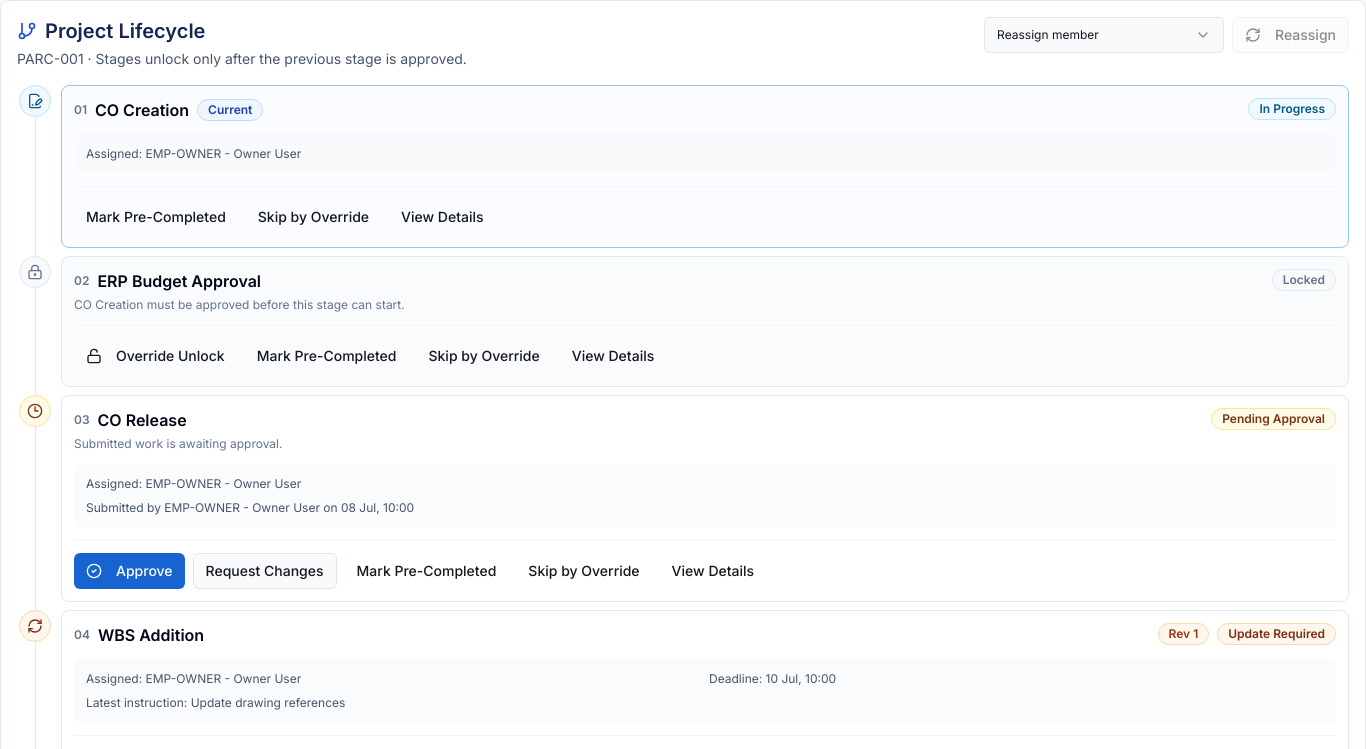
Scenario: ControlWorkflowSection › renders reviewer approval, revision, override, and pre-completed controls
Check: the heading "Project Lifecycle" is shown, box [45,17,206,45]
Check: the text "Update Required" is shown, box [1217,623,1336,645]
Click the button "Approve" at [129, 571], box [74,553,185,589]
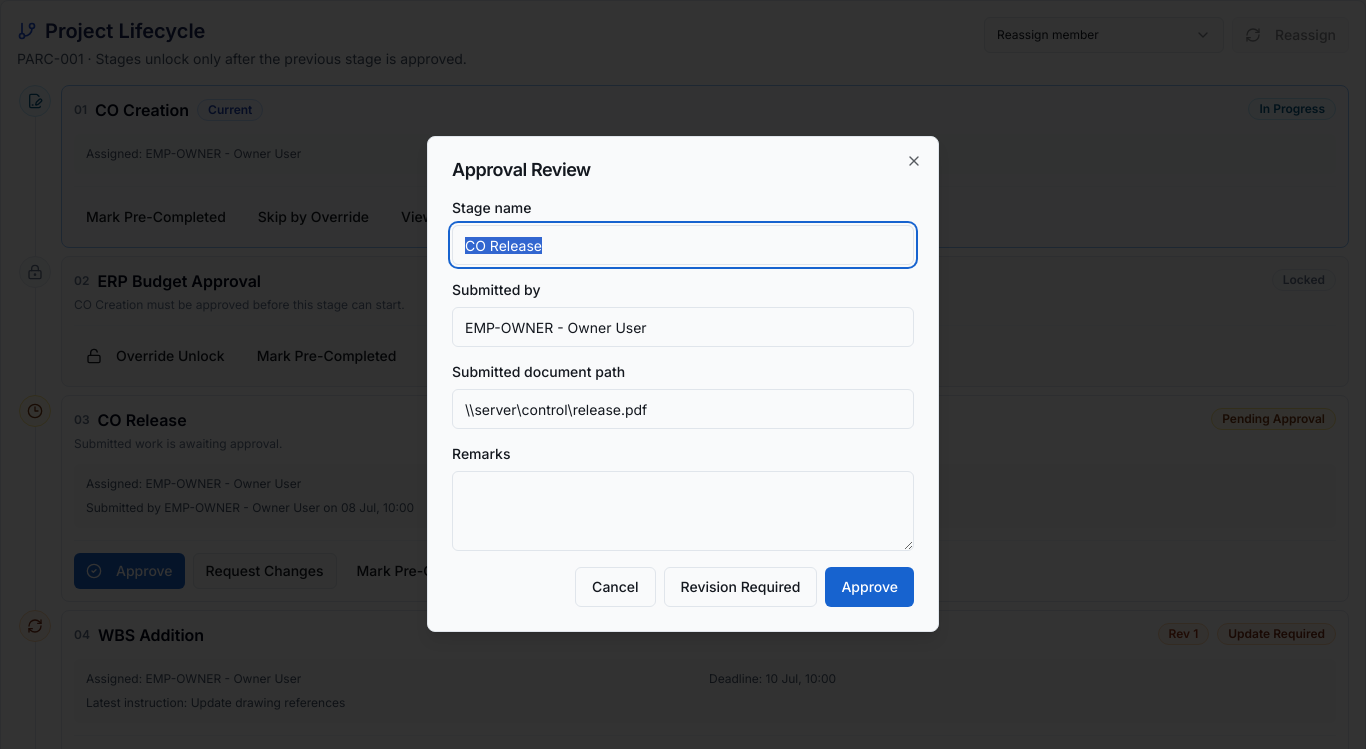
Check: the heading "Approval Review" is shown, box [452,159,591,180]
Check: the button "Revision Required" is shown, box [664,567,817,607]
Click the button "Cancel" at [615, 587], box [575,567,656,607]
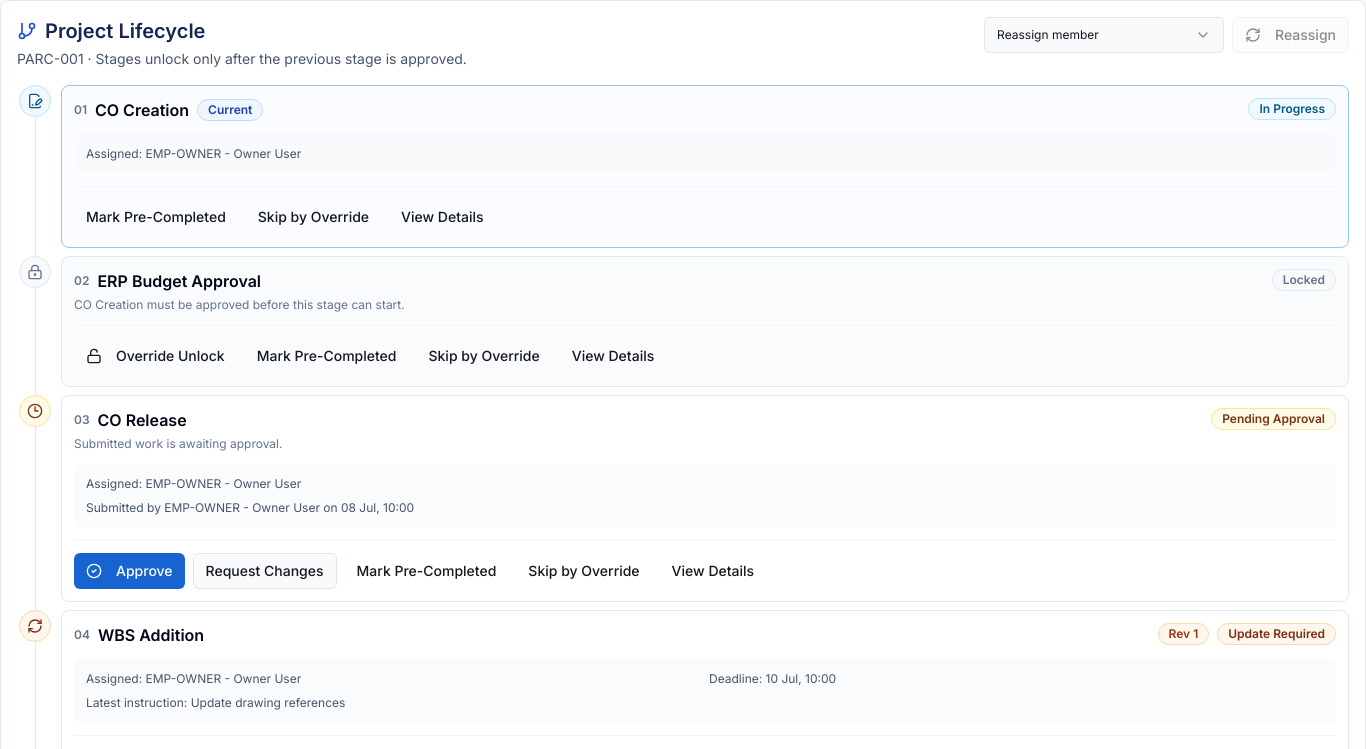
Click the button "Override Unlock" at [155, 356], box [74,338,237,374]
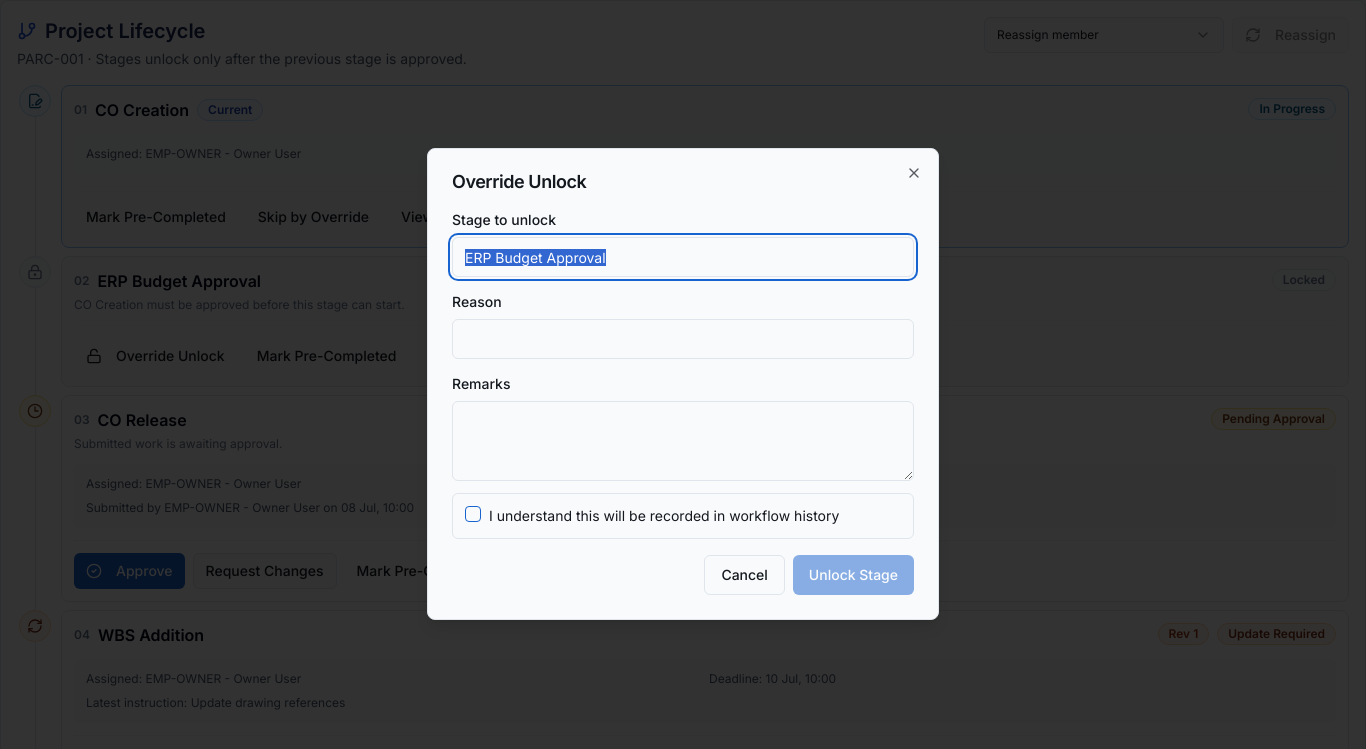
Check: the heading "Override Unlock" is shown, box [452,171,586,192]
Click the button "Cancel" at [745, 575], box [704,555,785,595]
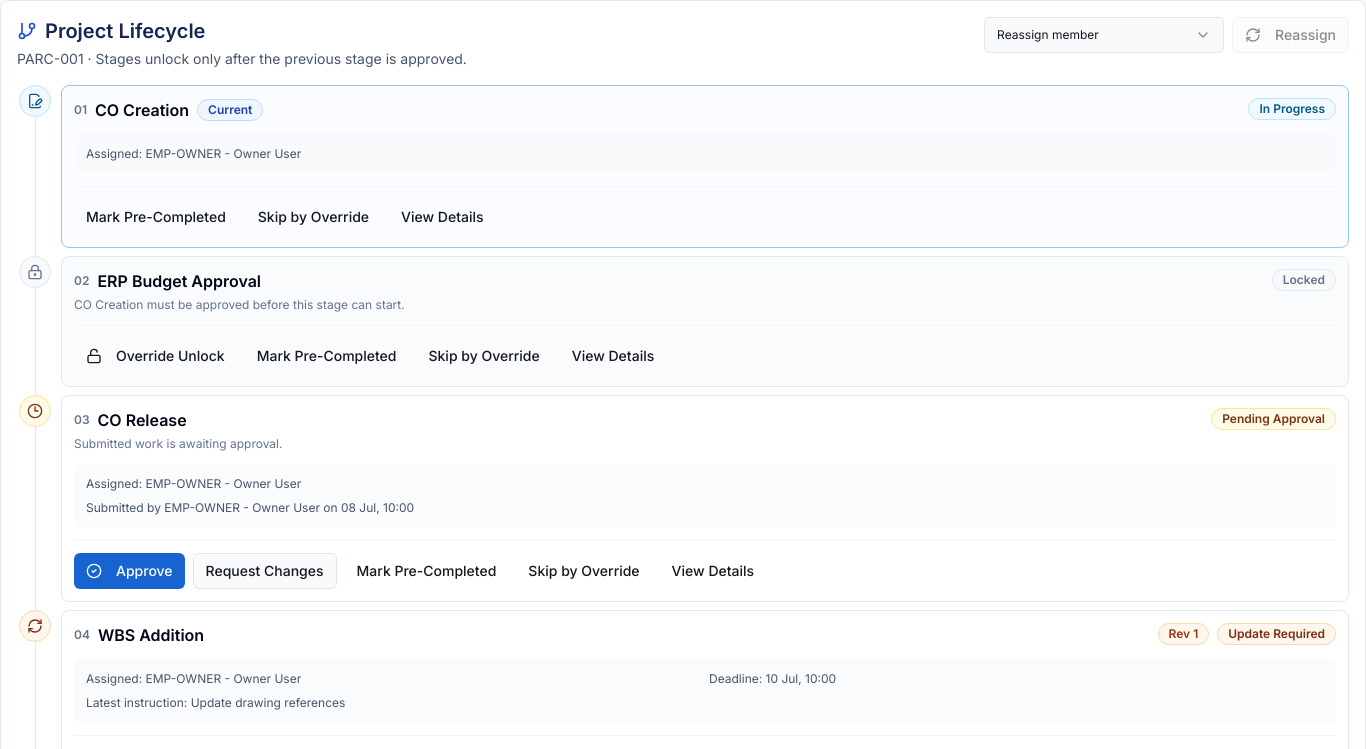
Click the 1st button "Mark Pre-Completed" at [156, 217], box [74,199,238,235]
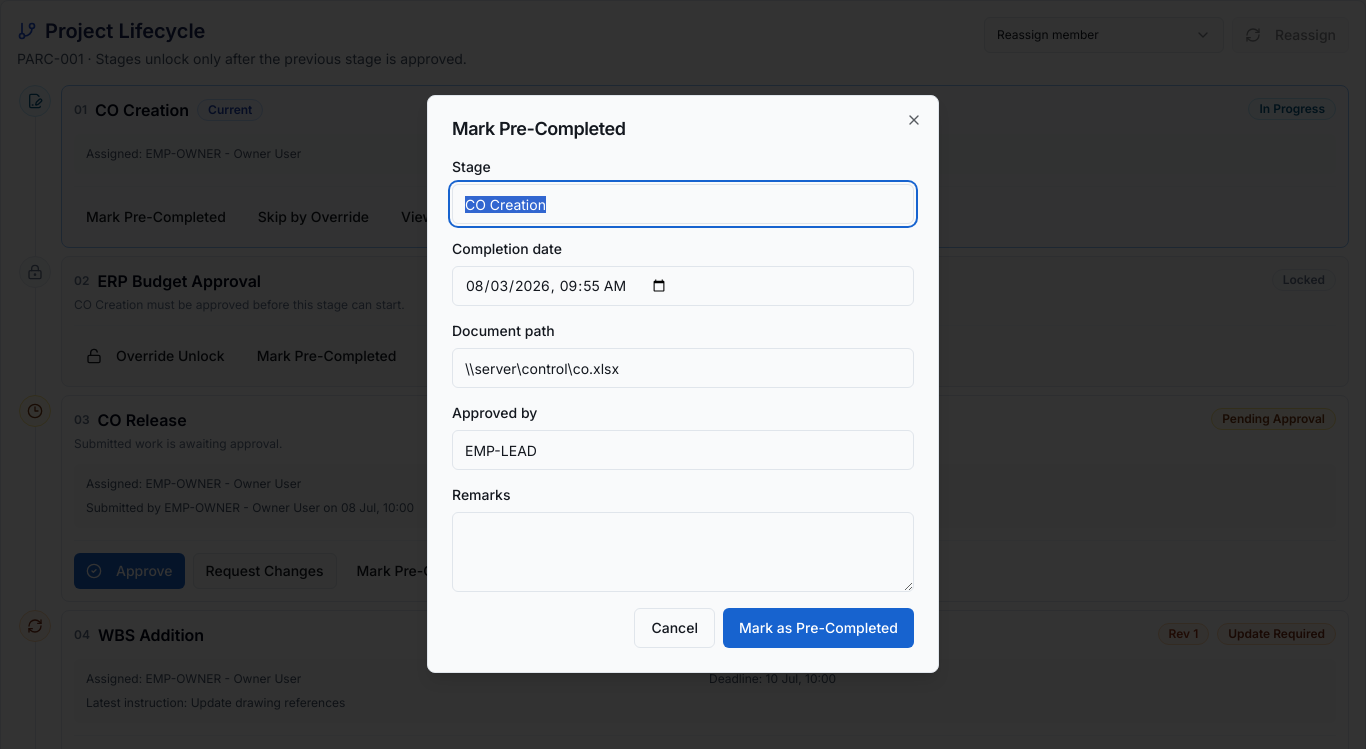
Check: the heading "Mark Pre-Completed" is shown, box [452,118,626,139]
